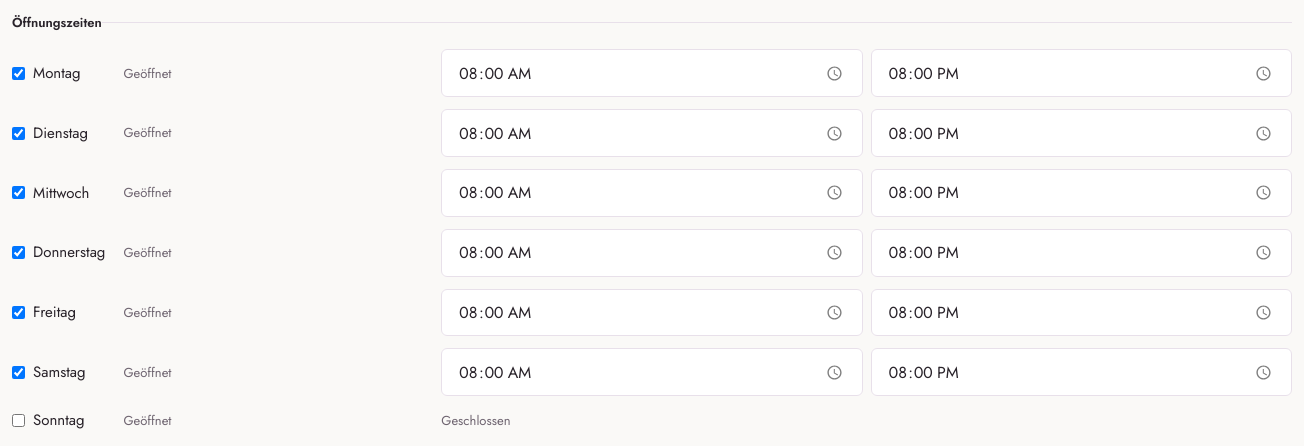
Test: OpeningHoursEditor › hides the times of a day when Geöffnet is unchecked and keeps them in the data
Click the checkbox labelled "Mittwoch Geöffnet" at (18, 193), box [12,186,25,199]
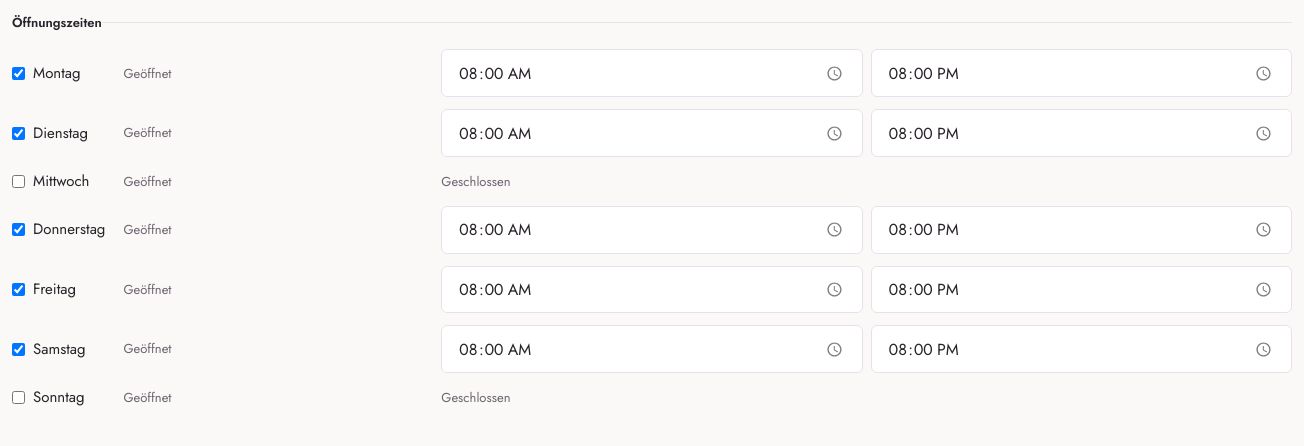
expect the text "Geschlossen" in the row of "Mittwoch" is shown: met, box [441,172,510,191]
